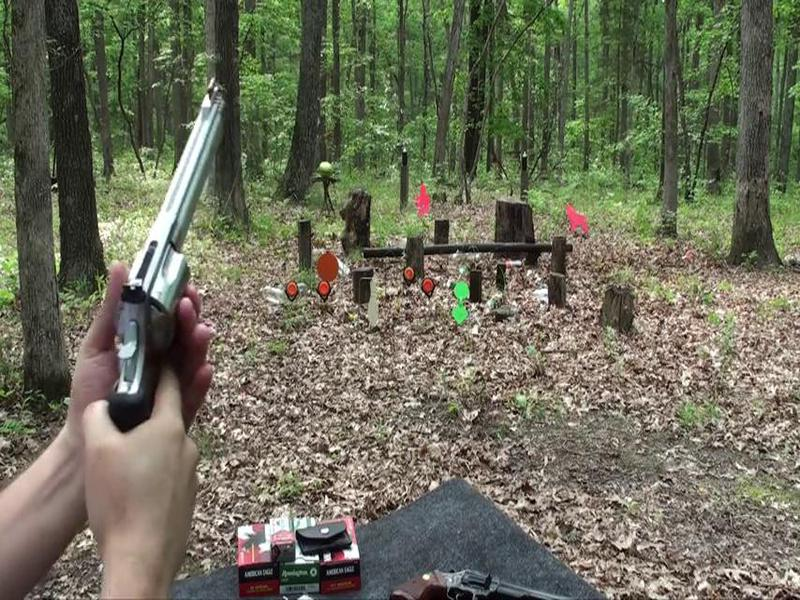Revolver: (83, 71, 252, 438)
